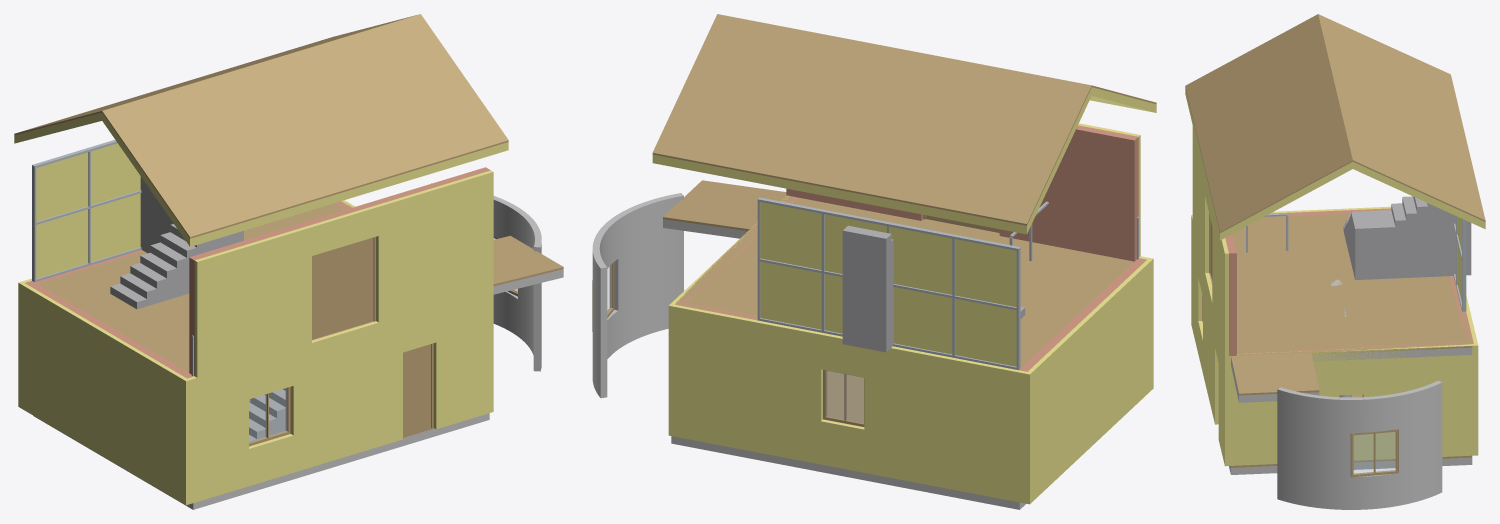
The model's file is 🏠️house.glb.
3 views of the same model, side by side, from view 1: azimuth 30°, elevation 25°; view 2: azimuth 150°, elevation 25°; view 3: azimuth 270°, elevation 25° (orthographic). The views are drawn at different scales.
Parts seen in each view (by area): view 1: Roof, South, First South, West, Facade, First slab, Stair 2, Double door, Curved, Balcony, Door 1, Ground slab (+2 smaller); view 2: Roof, North, Facade, West, First slab, First South, Curved, Stair 2, Ground slab, Balcony, Window 2; view 3: Roof, First slab, Curved, East, Stair 2, First South, South, Balcony, Curved window, Ground slab, Facade, West (+1 smaller).
Part boxes in pixels (left/top/right/bottom): Roof: left=14, top=14, right=508, bottom=246; South: left=186, top=288, right=493, bottom=505; First South: left=189, top=167, right=493, bottom=377; West: left=18, top=282, right=188, bottom=504; Facade: left=32, top=140, right=141, bottom=282; First slab: left=38, top=201, right=353, bottom=372; Stair 2: left=110, top=176, right=243, bottom=309; Double door: left=312, top=236, right=375, bottom=339; Curved: left=431, top=183, right=541, bottom=371; Balcony: left=493, top=235, right=563, bottom=294; Door 1: left=403, top=343, right=433, bottom=436; Ground slab: left=34, top=413, right=489, bottom=509; Roof: left=652, top=14, right=1156, bottom=234; North: left=668, top=302, right=1029, bottom=504; Facade: left=757, top=197, right=1020, bottom=370; West: left=1023, top=258, right=1153, bottom=503; First slab: left=676, top=195, right=1133, bottom=367; First South: left=786, top=123, right=1140, bottom=261; Curved: left=592, top=193, right=683, bottom=398; Stair 2: left=842, top=225, right=1025, bottom=352; Ground slab: left=671, top=371, right=1025, bottom=509; Balcony: left=663, top=180, right=786, bottom=238; Window 2: left=823, top=370, right=864, bottom=426; Roof: left=1185, top=14, right=1485, bottom=240; First slab: left=1232, top=213, right=1472, bottom=361; Curved: left=1277, top=381, right=1442, bottom=509; East: left=1225, top=341, right=1478, bottom=466; Stair 2: left=1343, top=196, right=1471, bottom=279; First South: left=1192, top=126, right=1236, bottom=356; South: left=1191, top=215, right=1224, bottom=465; Balcony: left=1231, top=352, right=1319, bottom=402; Curved window: left=1350, top=429, right=1398, bottom=477; Ground slab: left=1229, top=394, right=1472, bottom=474; Facade: left=1453, top=216, right=1466, bottom=311; West: left=1191, top=206, right=1391, bottom=217.
Size of the model in its own units: 11.49 by 8.59 by 7.43.
